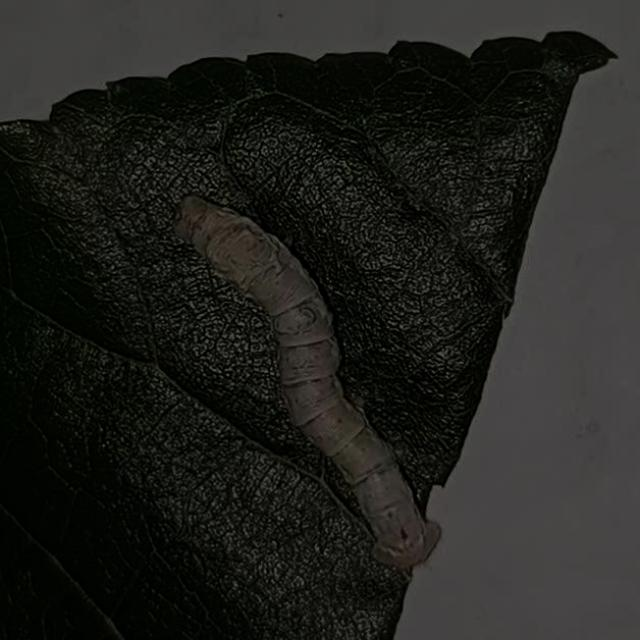Healthy: (140, 153, 463, 582)
